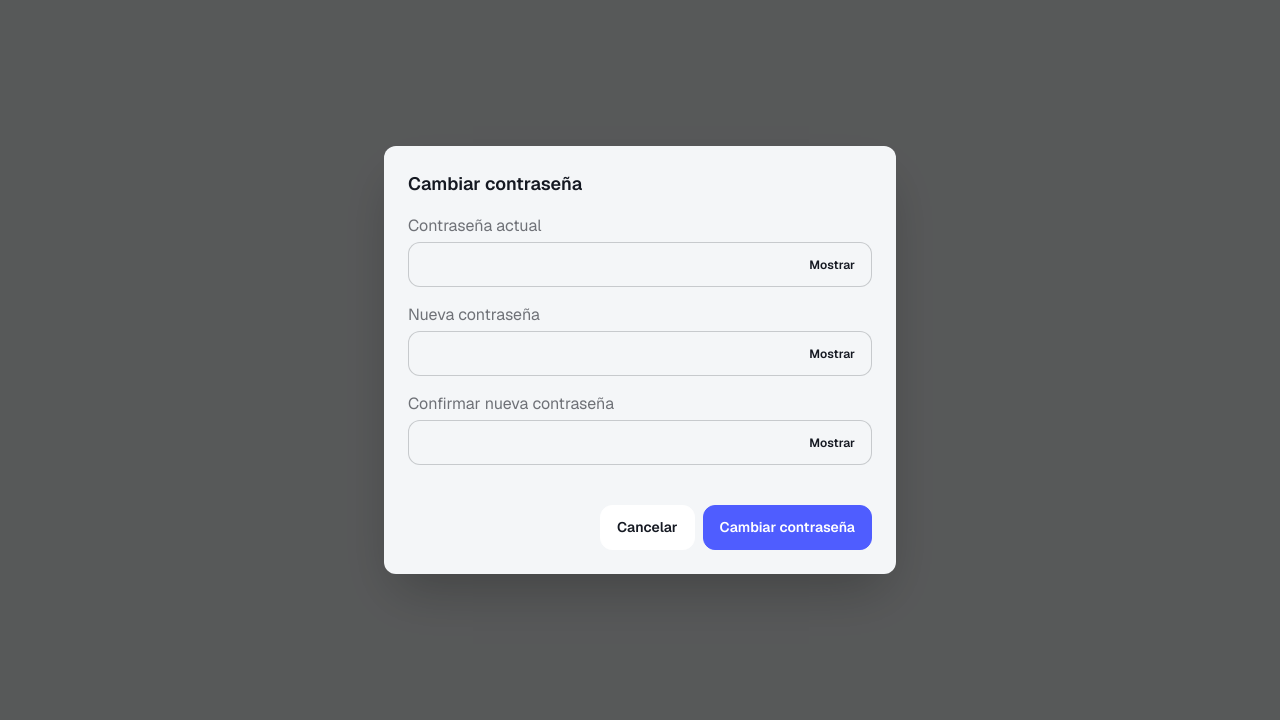
Test: ChangePasswordDialog › valida longitud y coincidencia antes de enviar (RF-14)
The width and height of the screenshot is (1280, 720).
Type "actual8" into the password field labelled "Contraseña actual". click: (640, 264)
box: [408,242,872,287]
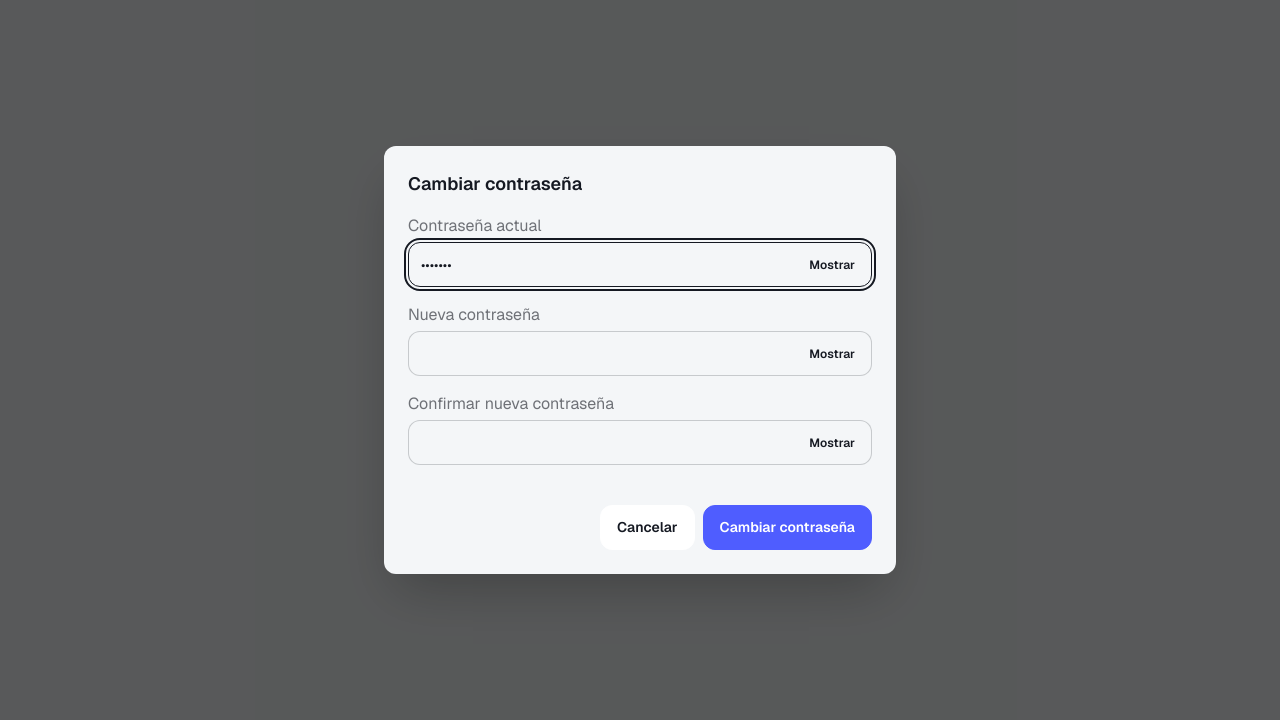
Type "123" into the password field labelled "Nueva contraseña". click: (640, 354)
box: [408,331,872,376]
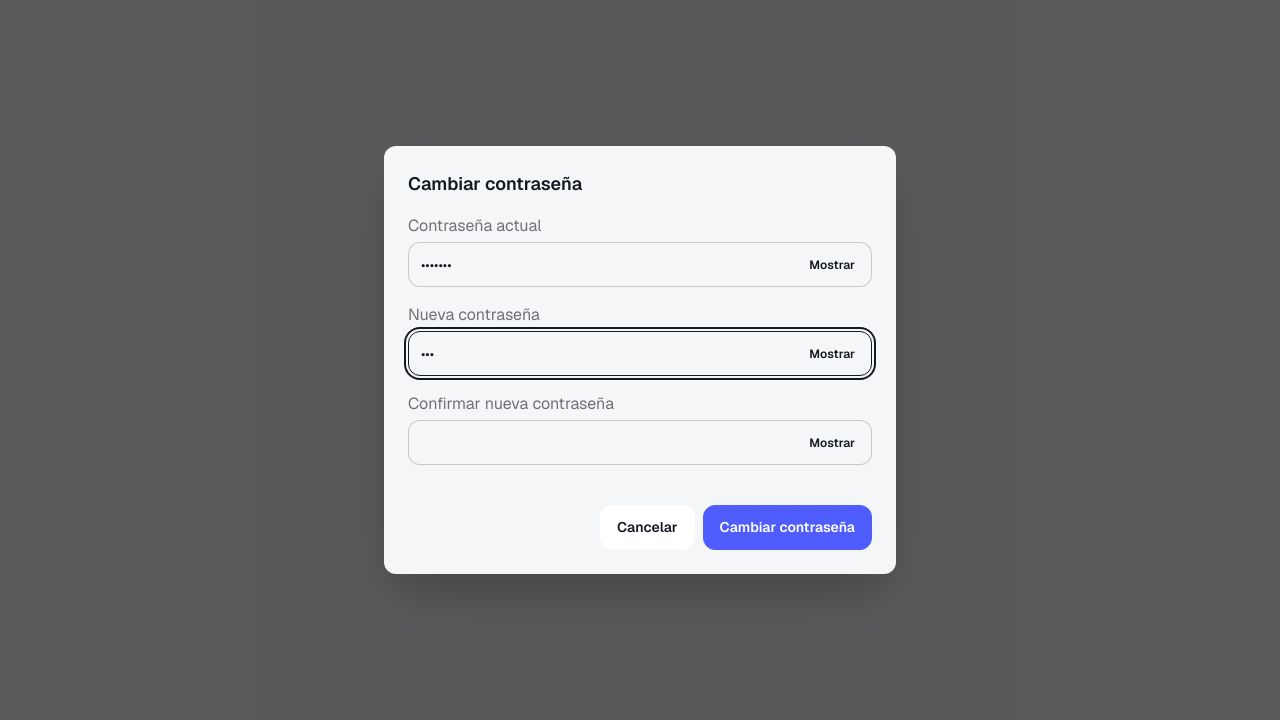
Type "124" into the password field labelled "Confirmar nueva contraseña". click: (640, 442)
box: [408,420,872,465]
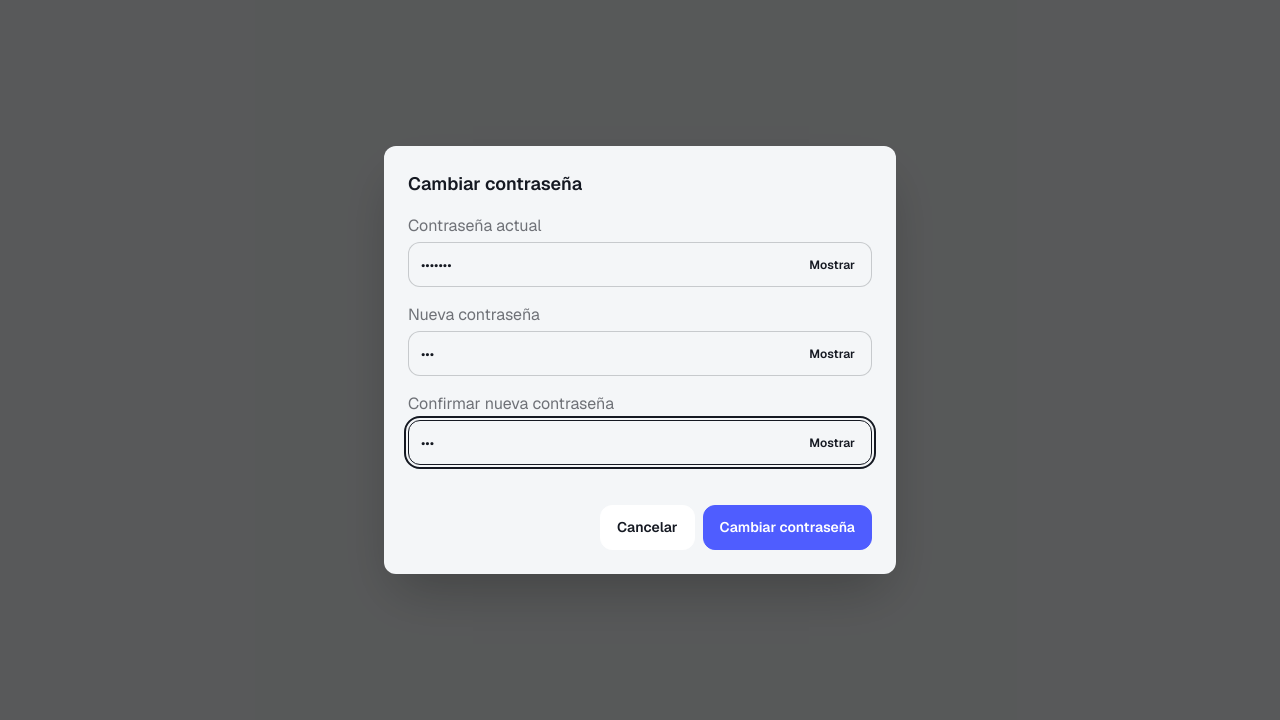
Click the button "Cambiar contraseña". click: (787, 528)
box: [703,505,872,550]
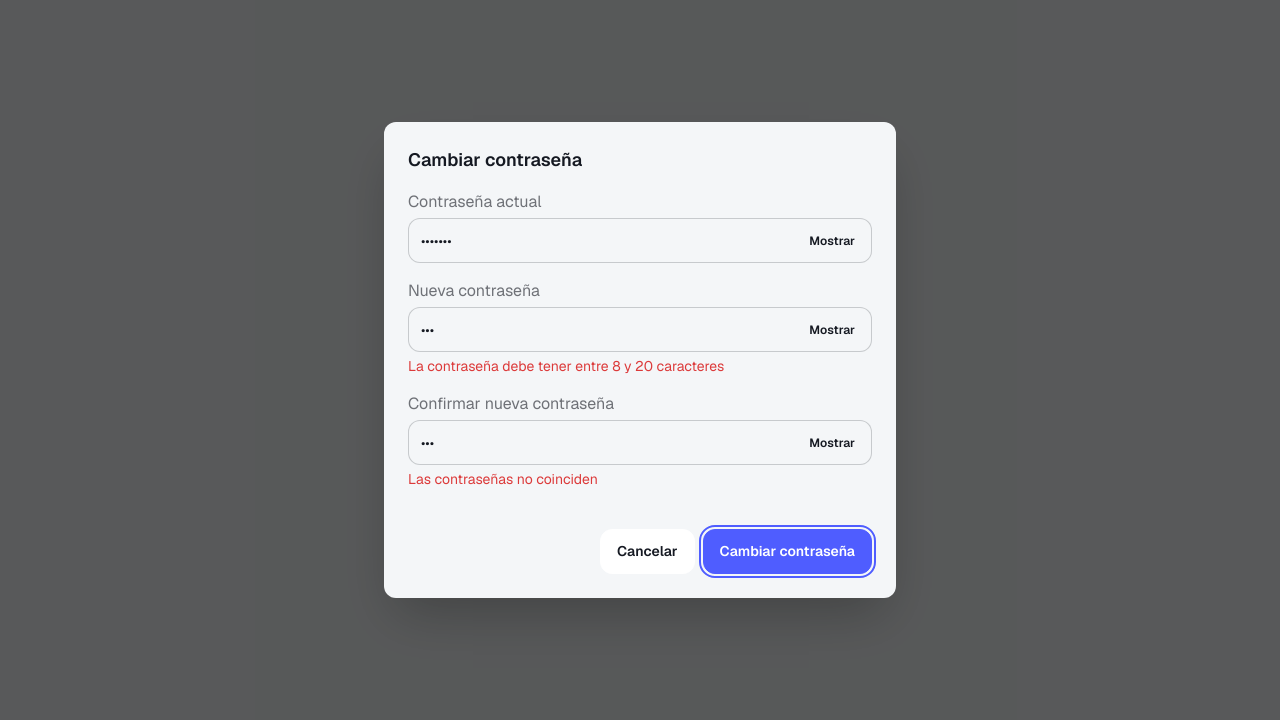
Result: the text "La contraseña debe tener entre 8 y 20 caracteres" is shown at [408,357,724,375]
Result: the text "Las contraseñas no coinciden" is shown at [408,470,598,488]
